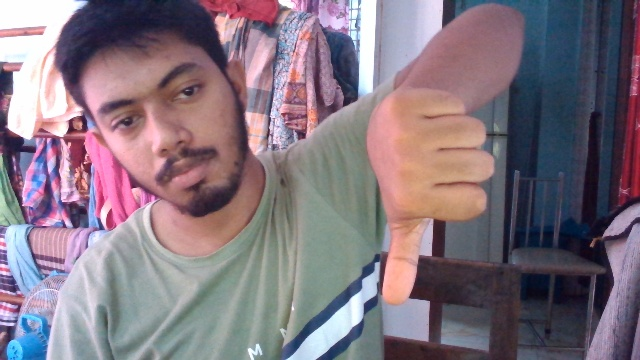no: (355, 81, 495, 310)
